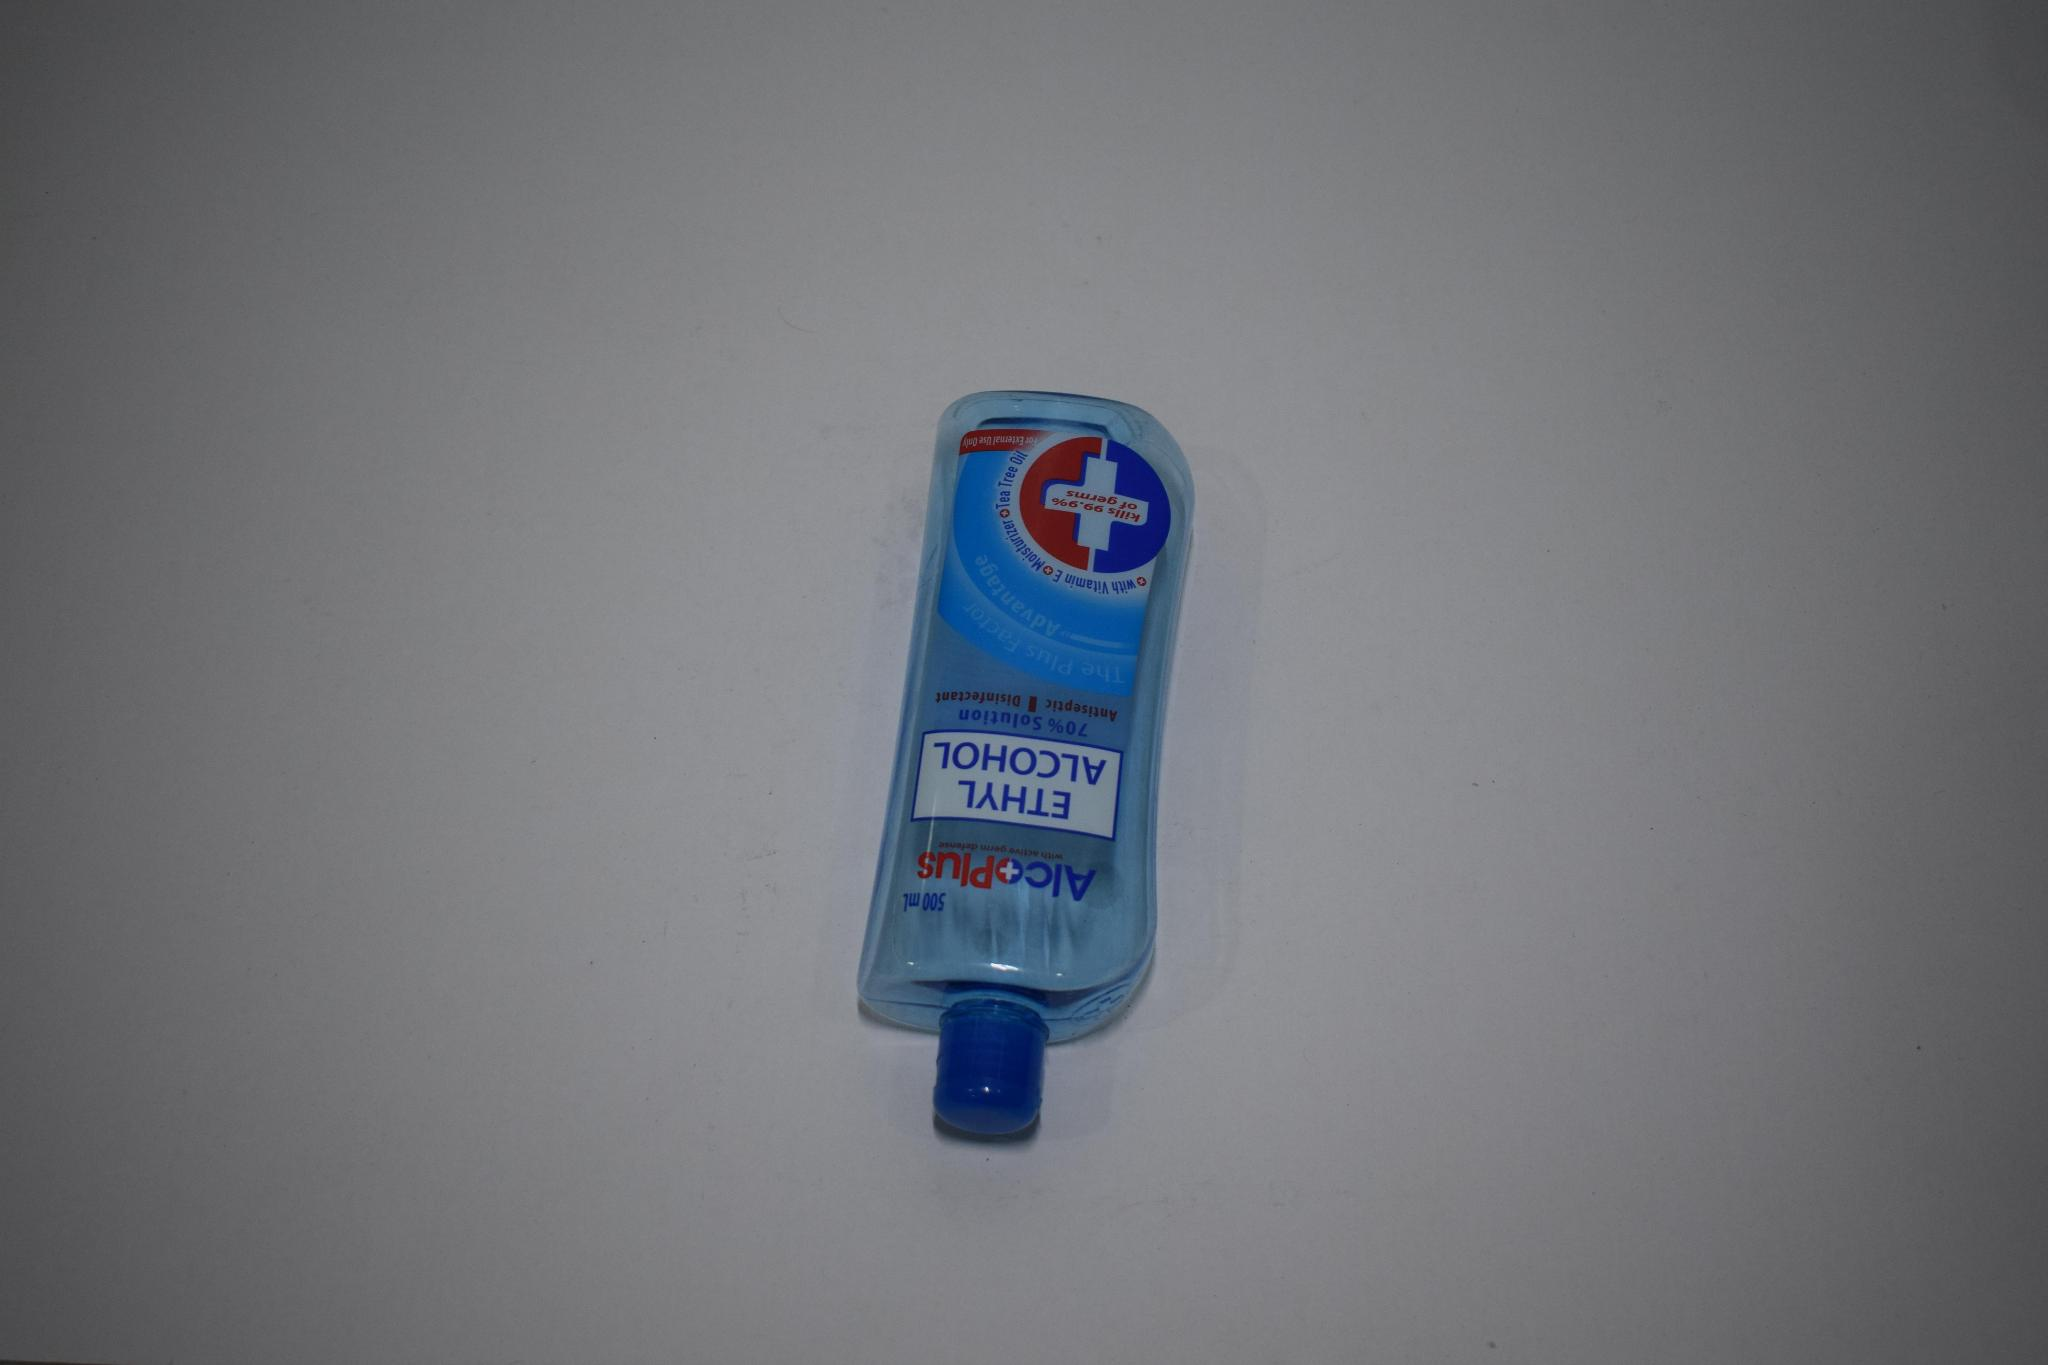bottle: (853, 390, 1207, 1162)
